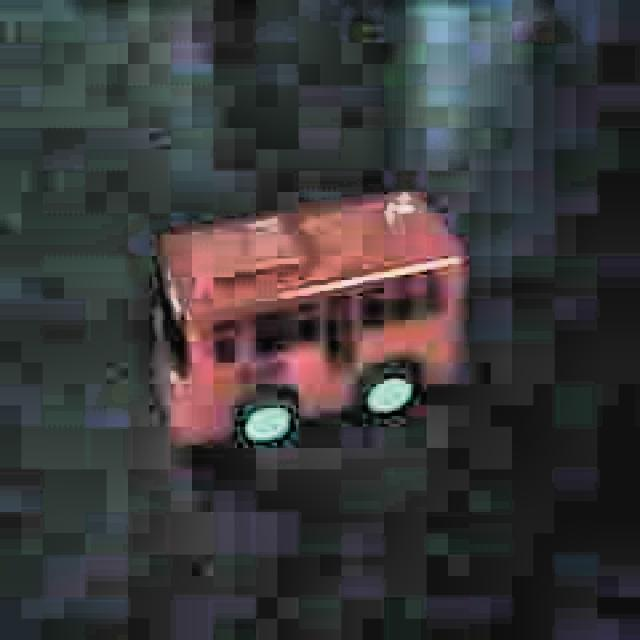bus: (145, 174, 479, 470)
